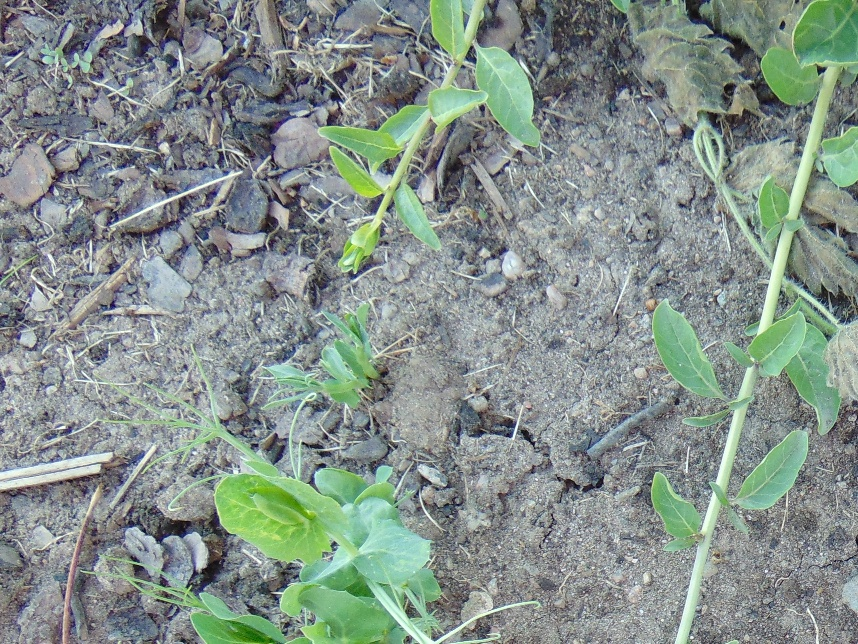crop: (149, 384, 473, 644), (253, 296, 399, 414)
weed: (651, 296, 842, 436), (651, 428, 809, 553), (758, 1, 858, 188), (429, 1, 541, 147), (318, 88, 488, 180), (338, 180, 444, 275), (757, 181, 808, 243), (39, 43, 93, 74)
